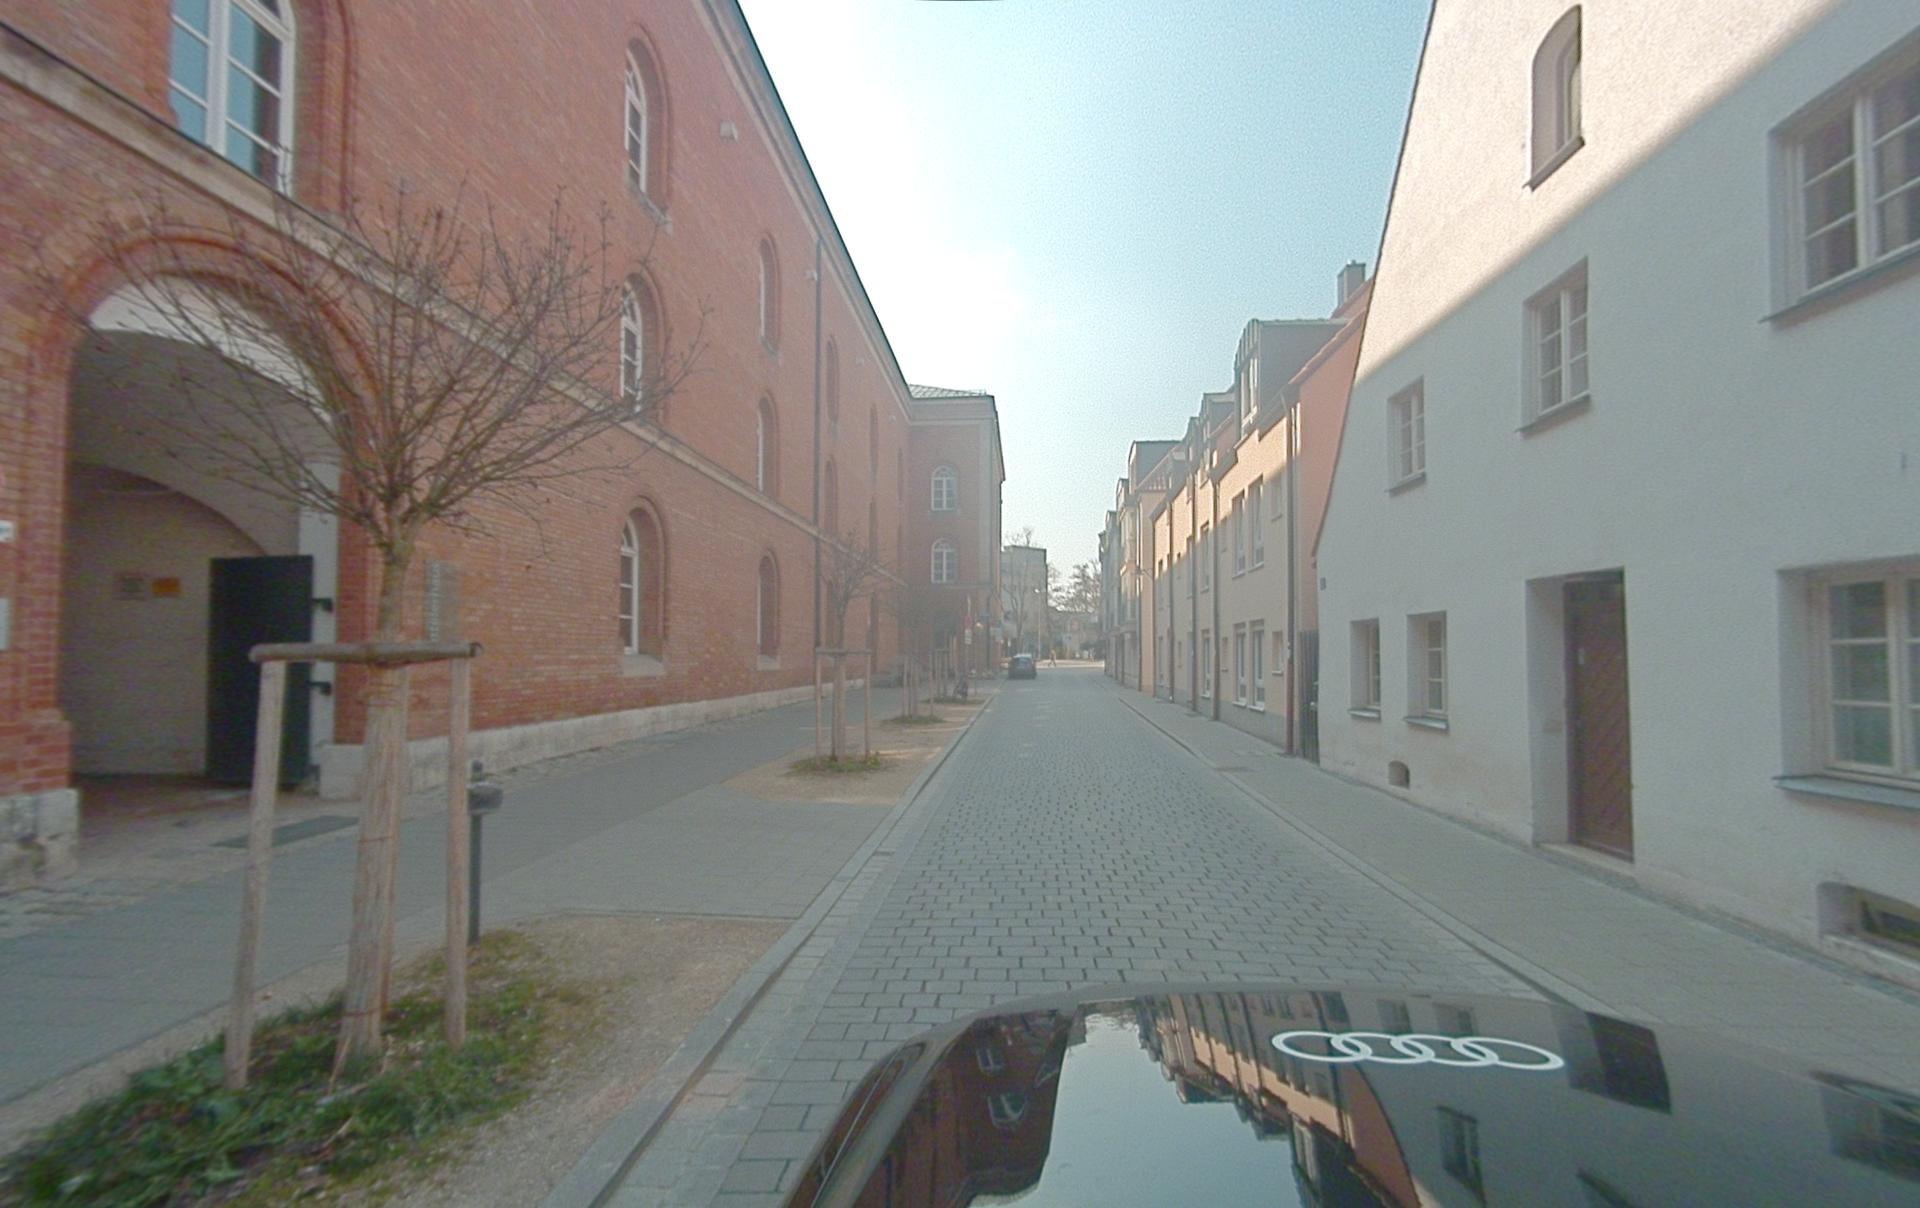car: (778, 981, 1919, 1207), (1007, 653, 1035, 679)
